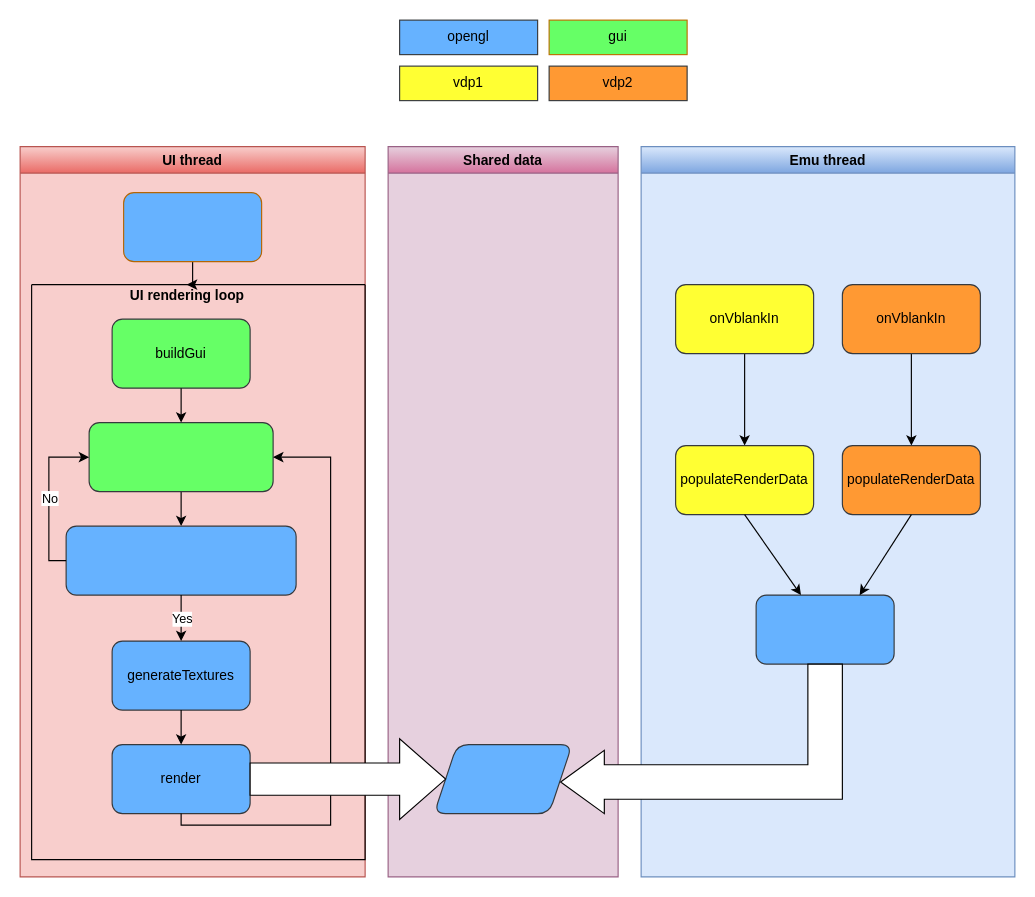
This 1035x897 diagram has some shape labels left out. The centre of each missing label's shape, as x and y in pixels:
displayFramebuffer: [824,629]
Fills: [700,738]
isThereSomethingToRender: [180,560]
parts_list_: [502,778]
Reads: [347,778]
runOpengl: [192,226]
showRenderingWindow: [180,456]
